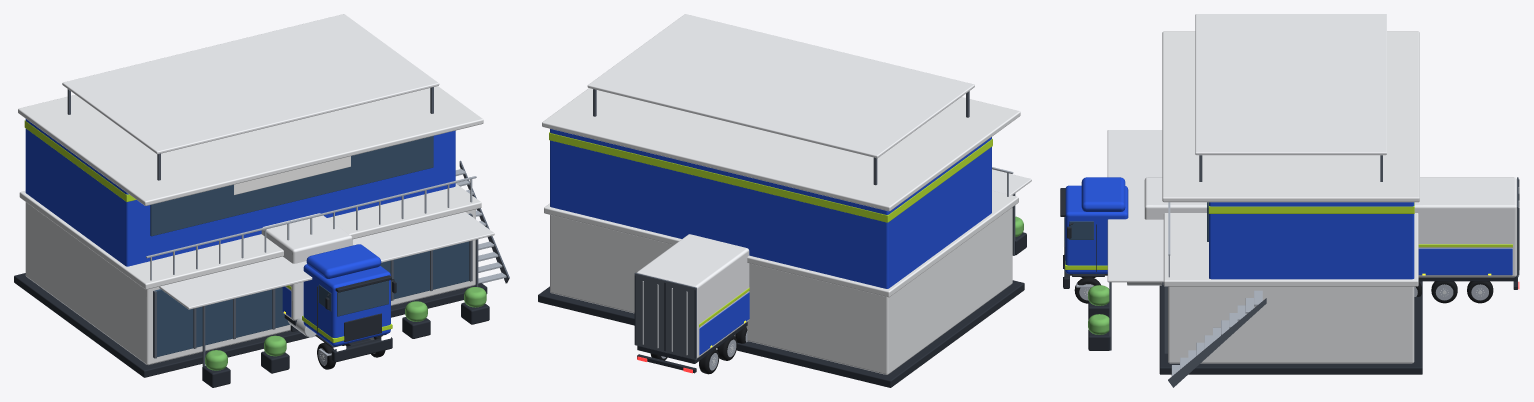
Rendered from paddock.glb.
The picture shows the model from 3 angles, left to right: view 1: azimuth 30°, elevation 25°; view 2: azimuth 150°, elevation 25°; view 3: azimuth 270°, elevation 25°; orthographic projection. The views are drawn at different scales.
Visible parts, largest first — view 1: hospitality_halvard_body, truck_halvard_body, truck_halvard; view 2: hospitality_halvard_body, truck_halvard_body, truck_halvard; view 3: hospitality_halvard_body, truck_halvard_body, truck_halvard.
Boxes of the visible parts, x1=… form: hospitality_halvard_body: x1=14, y1=14, x2=509, y2=387; truck_halvard_body: x1=261, y1=213, x2=396, y2=362; truck_halvard: x1=317, y1=335, x2=385, y2=369; hospitality_halvard_body: x1=538, y1=14, x2=1031, y2=387; truck_halvard_body: x1=634, y1=234, x2=749, y2=373; truck_halvard: x1=650, y1=327, x2=747, y2=374; hospitality_halvard_body: x1=1088, y1=14, x2=1422, y2=387; truck_halvard_body: x1=1060, y1=177, x2=1519, y2=289; truck_halvard: x1=1074, y1=277, x2=1493, y2=303.
Size of the model in its own units: 15.71 by 8.36 by 16.76.
